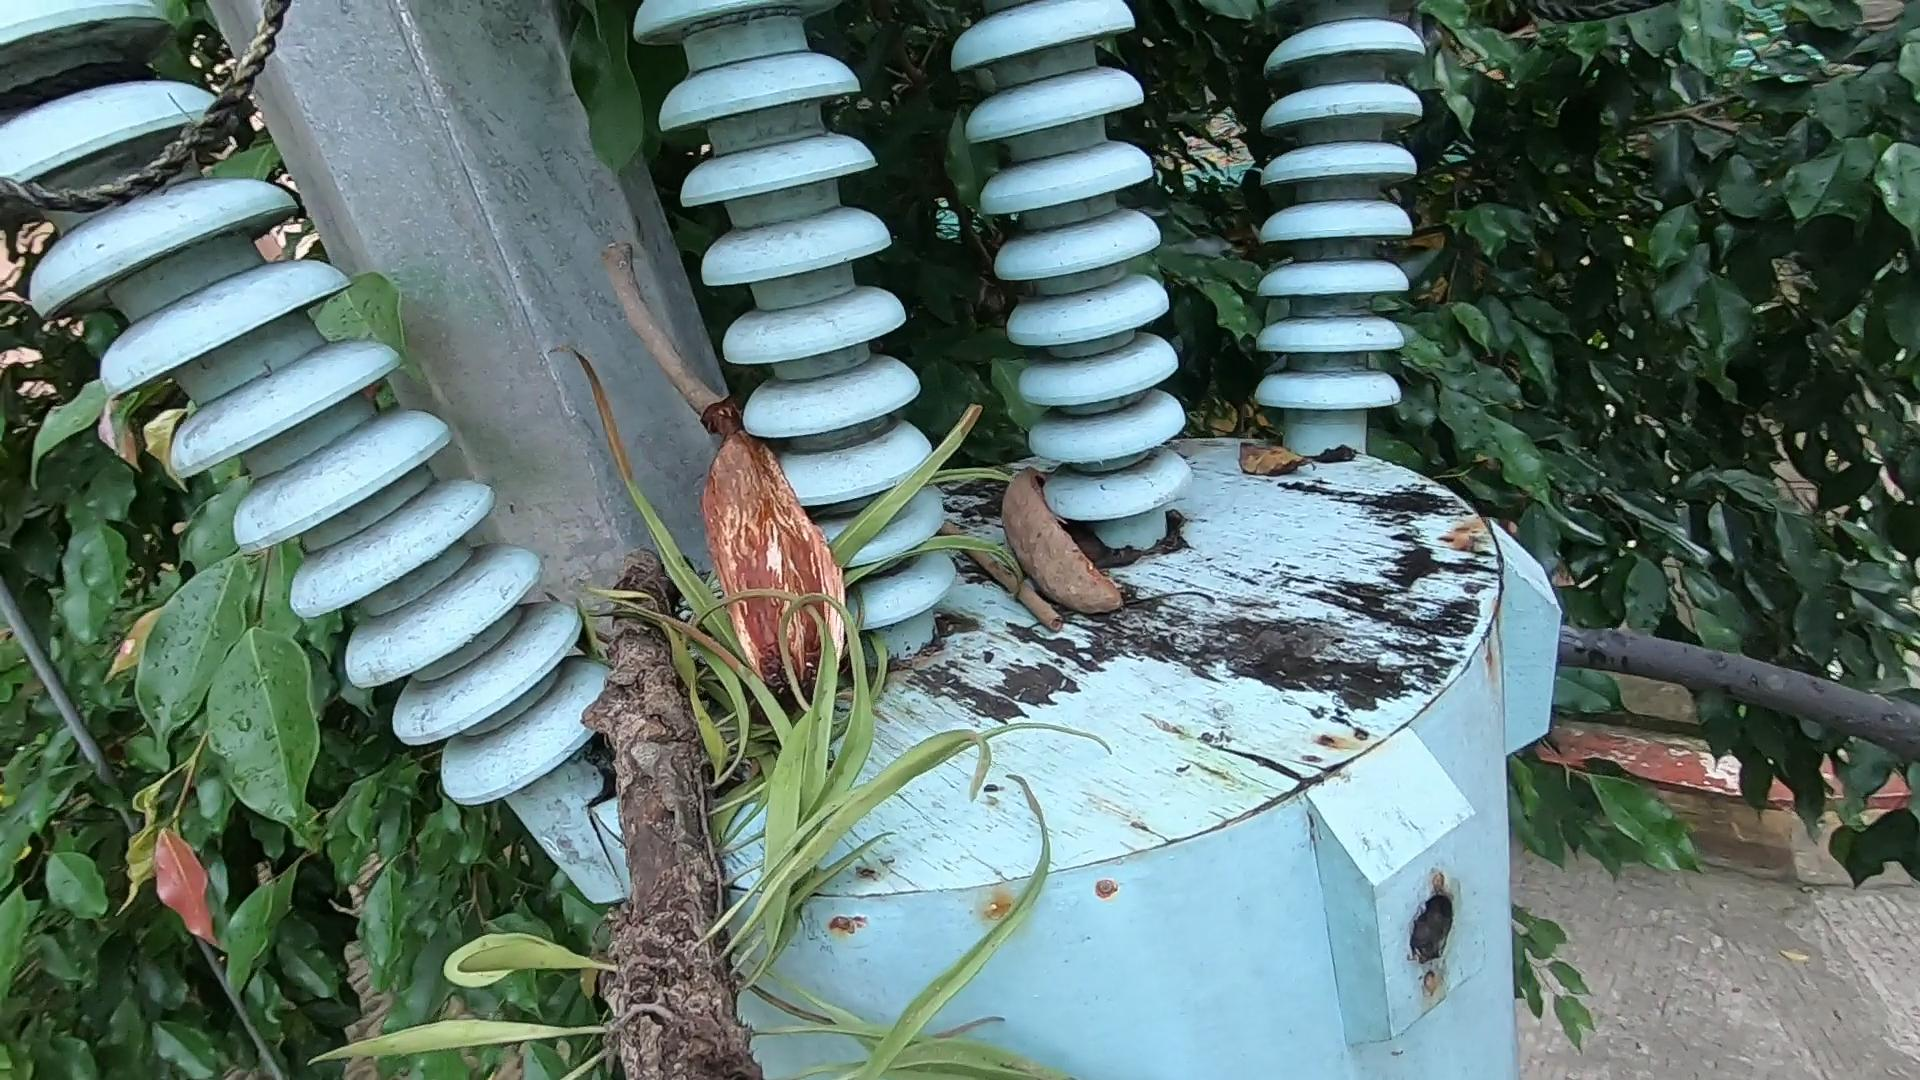branch with leaves: (504, 553, 1046, 1080)
leaf: (1215, 433, 1312, 502)
mahogany fruit: (601, 423, 909, 702), (956, 448, 1215, 684)
tree branch: (582, 225, 737, 448), (945, 502, 1073, 644)
